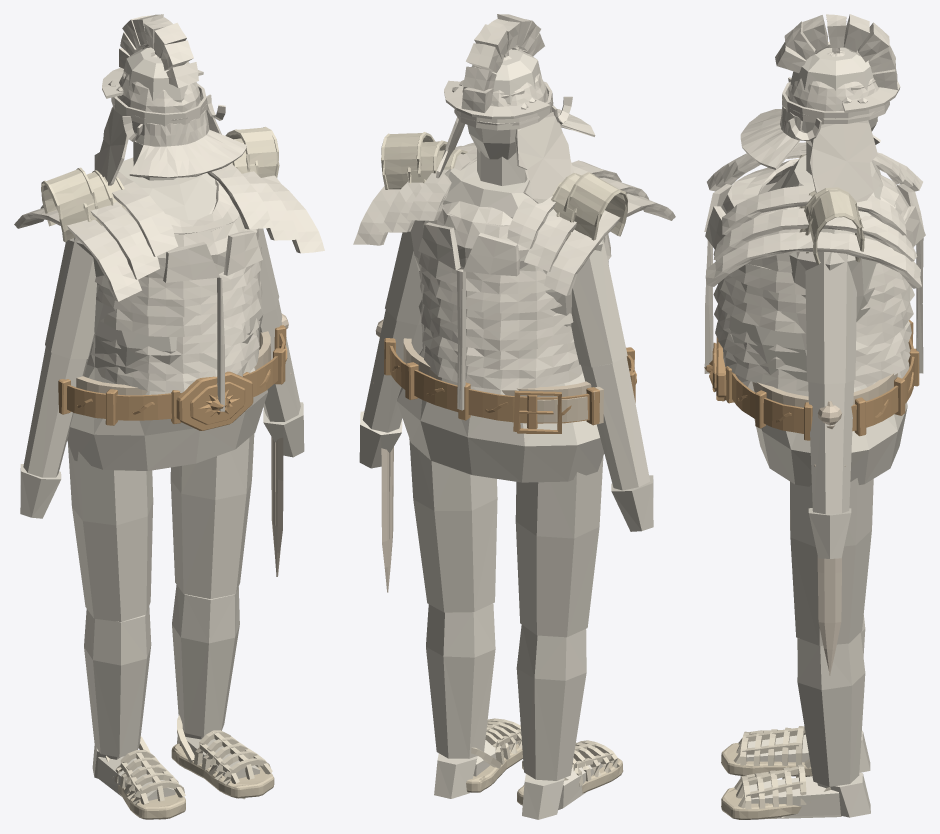
The model's file is roman-female-fat.glb.
3 views of the same model, side by side, from view 1: azimuth 30°, elevation 25°; view 2: azimuth 150°, elevation 25°; view 3: azimuth 270°, elevation 25° (orthographic). The views are drawn at different scales.
Parts seen in each view (by area): view 1: torso, leg_upper_l, leg_upper_r, leg_lower_r, leg_lower_l, helmet:neck_guard, arm_upper_l, arm_lower_l, cuirass:girth_hoop_4, cuirass:shoulder_lame_r2, cuirass:girth_hoop_5, cuirass:girth_hoop_2 (+37 smaller); view 2: torso, leg_upper_l, leg_upper_r, leg_lower_r, leg_lower_l, arm_lower_l, arm_upper_l, helmet:cheek_guard_r, arm_lower_r, cuirass:girth_hoop_2, cuirass:girth_hoop_1, cuirass:shoulder_lame_r2 (+40 smaller); view 3: torso, leg_lower_r, leg_upper_r, arm_upper_r, arm_lower_r, cuirass:shoulder_lame_l2, helmet:cheek_guard_l, cuirass:shoulder_lame_l1, cuirass:shoulder_lame_l0, cuirass:girth_hoop_4, helmet:neck_guard, head (+39 smaller).
Boxes of the visible parts, <box> form: torso: <box>67,157,267,470</box>; leg_upper_l: <box>68,443,153,621</box>; leg_upper_r: <box>170,434,254,599</box>; leg_lower_r: <box>172,585,239,736</box>; leg_lower_l: <box>84,606,151,757</box>; helmet:neck_guard: <box>129,110,246,177</box>; arm_upper_l: <box>45,224,101,358</box>; arm_lower_l: <box>23,346,88,477</box>; cuirass:girth_hoop_4: <box>100,281,262,336</box>; cuirass:shoulder_lame_r2: <box>14,208,141,301</box>; cuirass:girth_hoop_5: <box>96,271,259,317</box>; cuirass:girth_hoop_2: <box>90,329,259,374</box>; torso: <box>397,160,604,482</box>; leg_upper_l: <box>515,457,603,637</box>; leg_upper_r: <box>409,439,497,612</box>; leg_lower_r: <box>426,603,495,758</box>; leg_lower_l: <box>516,624,586,780</box>; arm_lower_l: <box>581,356,650,490</box>; arm_upper_l: <box>571,239,627,367</box>; helmet:cheek_guard_r: <box>515,112,574,203</box>; arm_lower_r: <box>362,309,422,432</box>; cuirass:girth_hoop_2: <box>421,323,577,370</box>; cuirass:girth_hoop_1: <box>422,343,582,390</box>; cuirass:shoulder_lame_r2: <box>544,193,675,295</box>; torso: <box>729,155,907,486</box>; leg_lower_r: <box>797,633,865,786</box>; leg_upper_r: <box>790,478,873,645</box>; arm_upper_r: <box>805,252,856,384</box>; arm_lower_r: <box>808,380,854,514</box>; cuirass:shoulder_lame_l2: <box>705,232,921,288</box>; helmet:cheek_guard_l: <box>809,120,880,202</box>; cuirass:shoulder_lame_l1: <box>713,208,914,261</box>; cuirass:shoulder_lame_l0: <box>722,184,906,235</box>; cuirass:girth_hoop_4: <box>713,284,914,333</box>; helmet:neck_guard: <box>740,106,802,169</box>; head: <box>790,47,877,146</box>.
Size of the model in its own units: 0.6816 by 1.74 by 0.4485.
